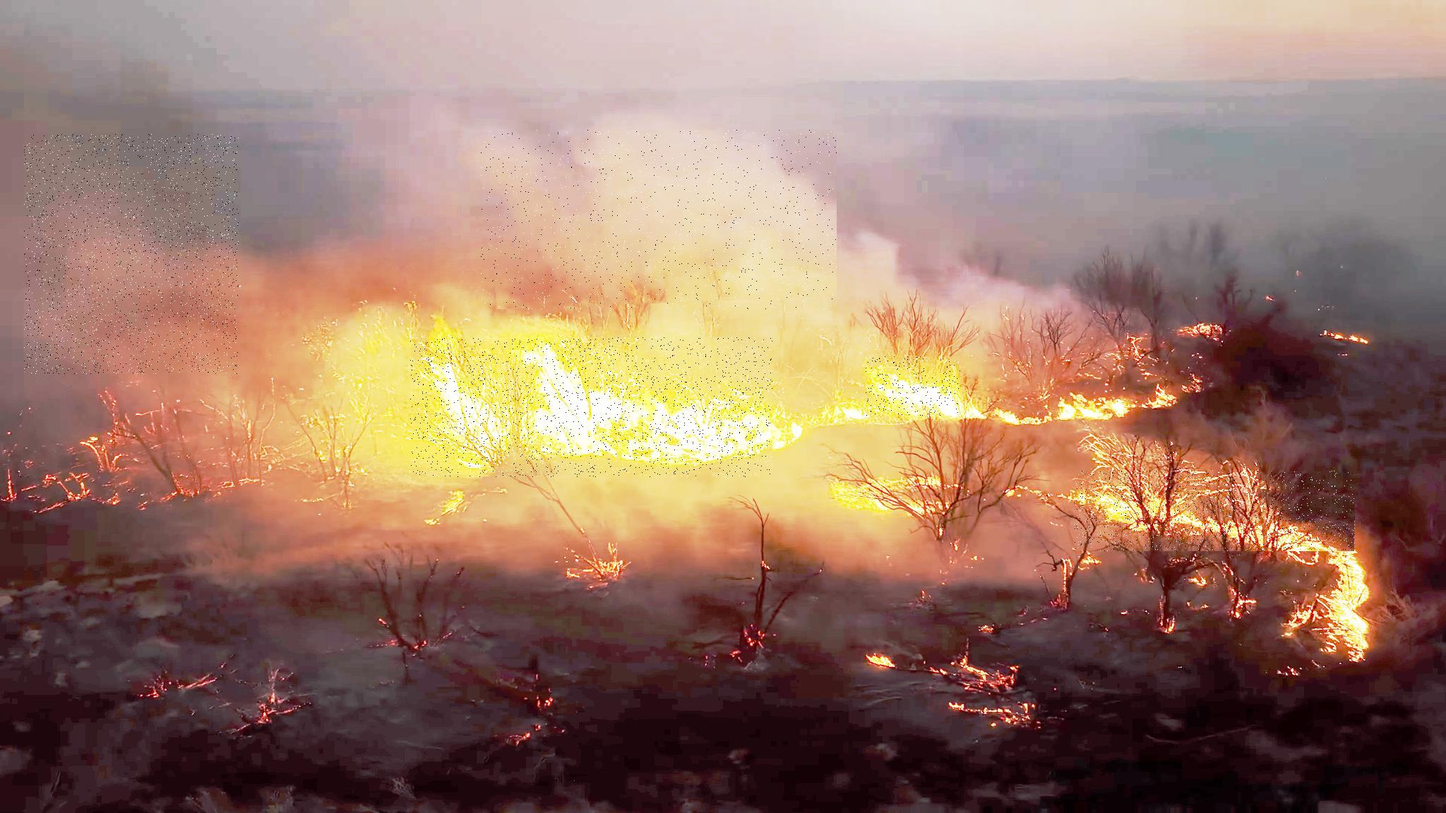fire: (410, 337, 772, 477), (1074, 471, 1355, 551), (866, 356, 960, 416)
smoke: (481, 130, 837, 309), (24, 134, 239, 374)
